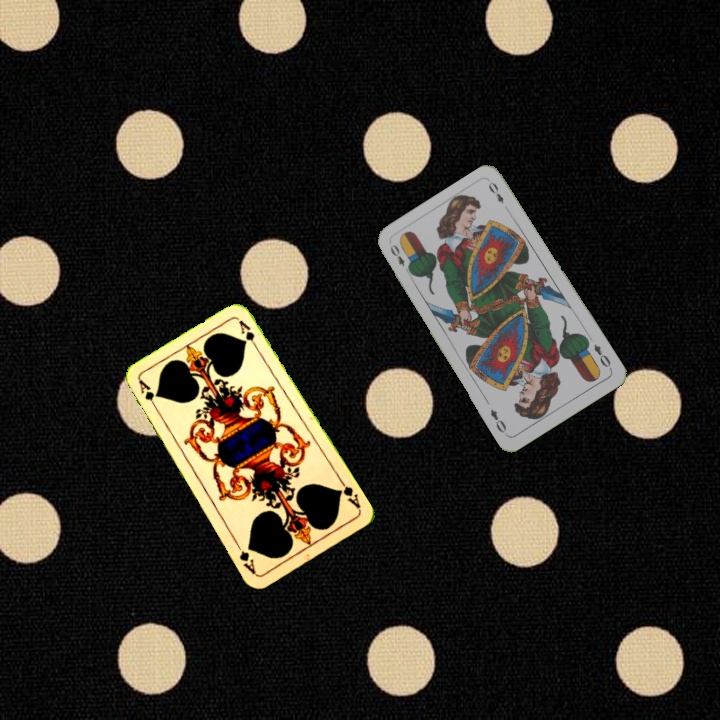EO: (386, 240, 413, 277), (590, 340, 614, 373)
GA: (333, 475, 363, 512), (134, 376, 161, 414)
